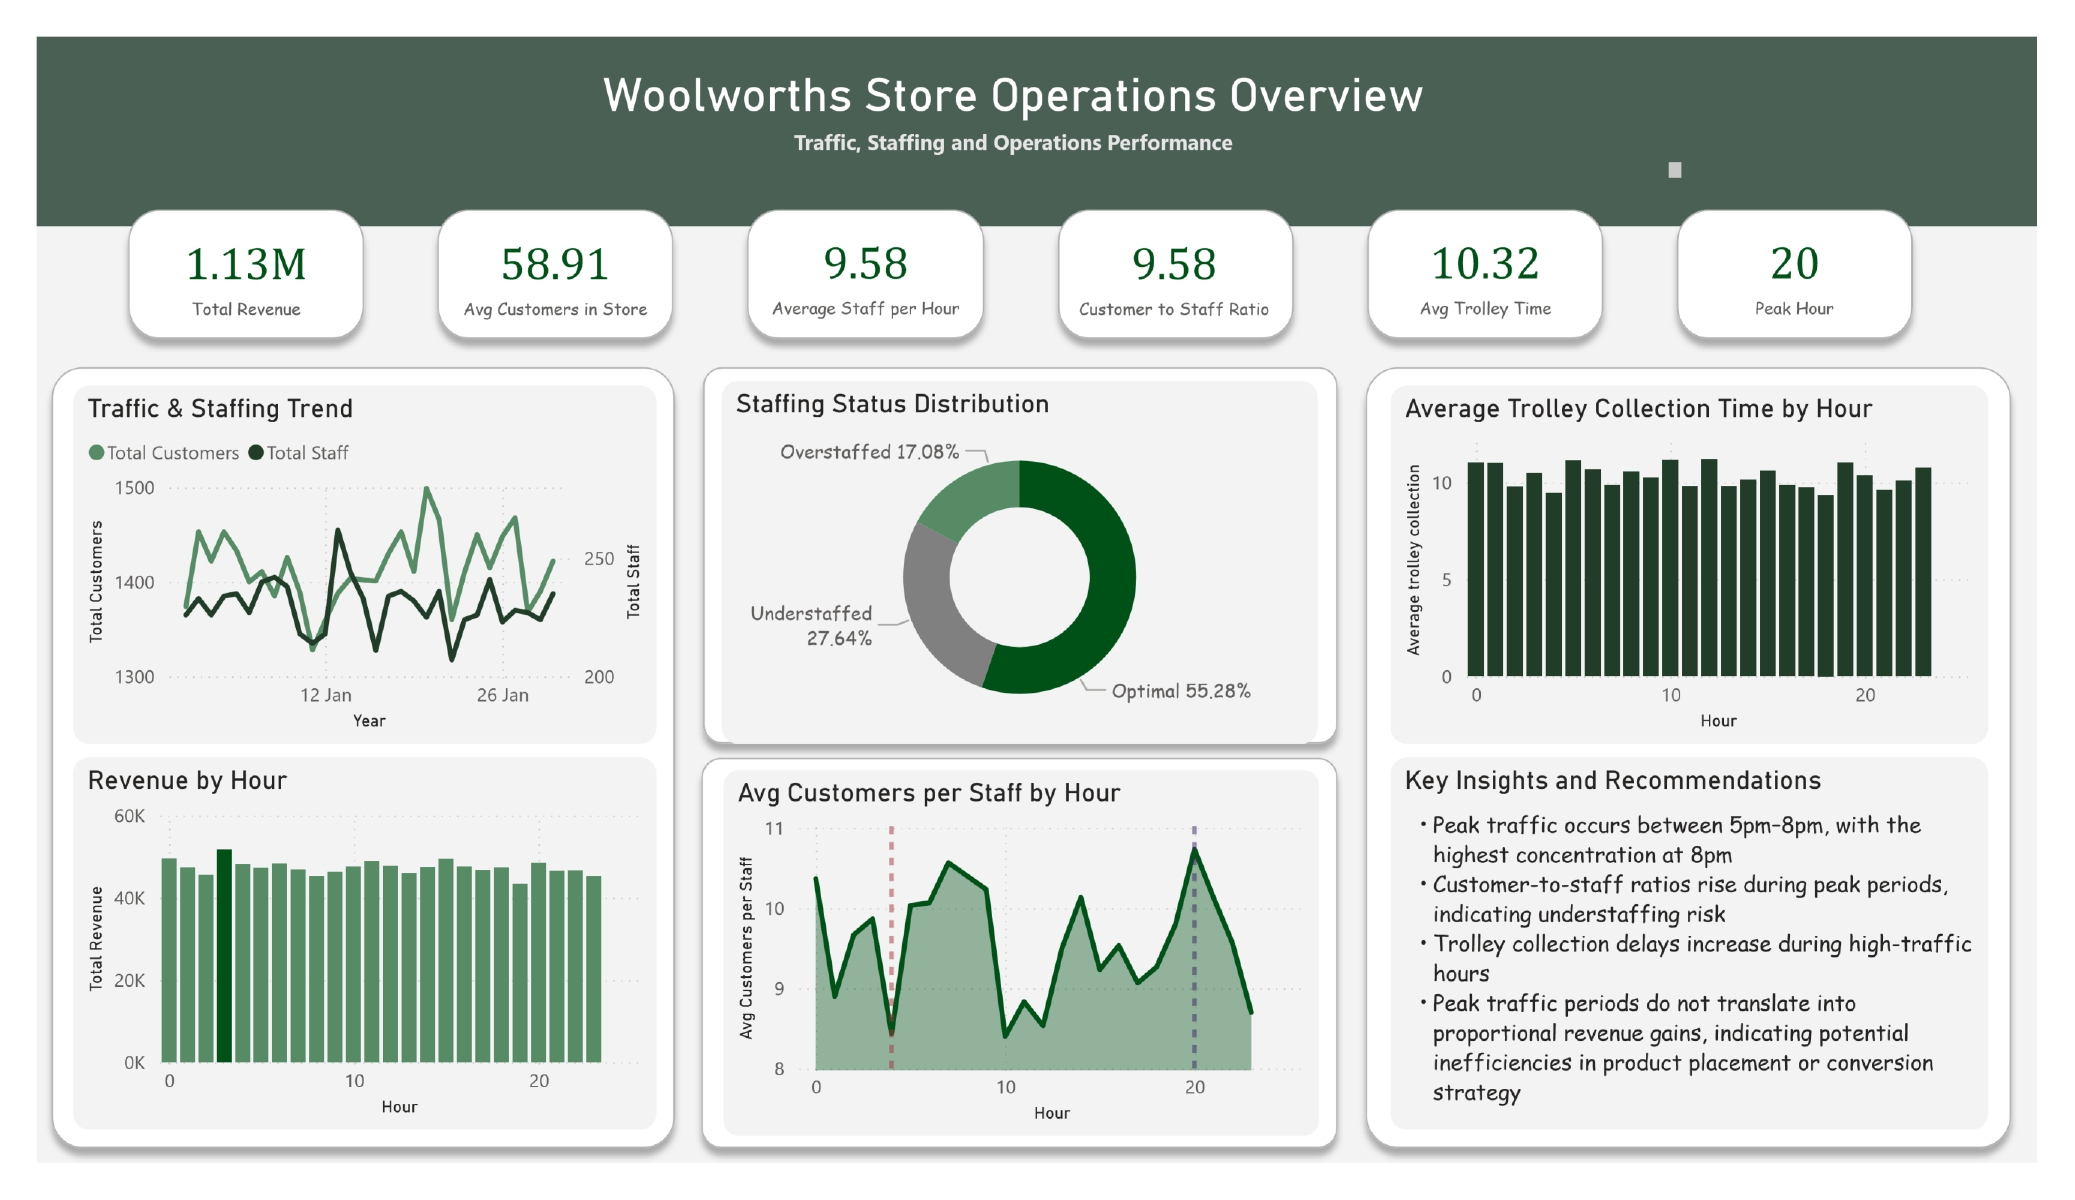

The page's visual inventory and layout, read from the dashboard file:
{"tool":"powerbi","page":{"name":"Woolworths Dashboard","canvas":[1280,720],"ordinal":0},"visuals":[{"type":"shape","box":[0,0,1280.4,120.6],"z":0},{"type":"textbox","title":"Woolworths Store Operations Overview","box":[191.5,18.6,865.4,76.3],"z":1000},{"type":"shape","box":[48.8,101.1,169.4,101.1],"z":2000},{"type":"shape","box":[247,101.1,169.4,101.1],"z":3000},{"type":"shape","box":[445.3,101.1,169.4,101.1],"z":4000},{"type":"shape","box":[643.6,101.1,169.4,101.1],"z":5000},{"type":"shape","box":[841.8,101.1,169.4,101.1],"z":6000},{"type":"shape","box":[1040.1,101.1,169.4,101.1],"z":7000},{"type":"card","fields":{"Values":["Sum(transactions.total_amount)"]},"box":[75.4,115.3,116.2,72.7],"z":8000},{"type":"card","fields":{"Values":["Avg(foot_traffic.customers_in_store)"]},"box":[259.8,110.8,142.8,80.7],"z":9000},{"type":"card","fields":{"Values":["Avg(staffing.staff_count)"]},"box":[462.9,117,133.9,68.3],"z":10000},{"type":"card","fields":{"Values":["Avg(foot_traffic.Customers per staff)"]},"box":[656.2,113.5,142.8,76.3],"z":11000},{"type":"shape","box":[0,202.2,416.7,517.8],"z":12000},{"type":"card","fields":{"Values":["Avg(operations.trolley_collection_time)"]},"box":[854.8,109.1,142.8,84.2],"z":13000},{"type":"shape","box":[416.7,202.2,424.7,258.9],"z":14000},{"type":"shape","box":[841.5,202.2,430.9,517.8],"z":15000},{"type":"card","fields":{"Values":["foot_traffic.Peak Hour"]},"box":[1062.3,117,125,68.3],"z":16000},{"type":"lineChart","title":"Traffic & Staffing Trend","fields":{"Category":["foot_traffic.datetime.Variation.Date Hierarchy.Year","foot_traffic.datetime.Variation.Date Hierarchy.Quarter","foot_traffic.datetime.Variation.Date Hierarchy.Month","foot_traffic.datetime.Variation.Date Hierarchy.Day"],"Y":["Sum(foot_traffic.customers_in_store)"],"Y2":["Sum(staffing.staff_count)"]},"box":[23.1,222.6,373.3,229.7],"z":17000},{"type":"clusteredColumnChart","title":"Average Trolley Collection Time by Hour","fields":{"Y":["Avg(operations.trolley_collection_time)"],"Category":["foot_traffic.hour"]},"box":[866.3,222.6,381.3,229.7],"z":18000},{"type":"clusteredColumnChart","title":"Revenue by Hour","fields":{"Y":["Sum(transactions.total_amount)"],"Category":["foot_traffic.hour"]},"box":[23.1,461.1,373.3,237.6],"z":19000},{"type":"donutChart","title":"Staffing Status Distribution","fields":{"Category":["foot_traffic.Staffing Status"],"Y":["CountNonNull(foot_traffic.Staffing Status)"]},"box":[438,219.9,381.3,232.3],"z":20000},{"type":"textbox","title":"Key Insights and Recommendations","box":[866.3,461.1,381.3,237.6],"z":21000},{"type":"shape","box":[415.9,452.2,424.7,267.8],"z":22000},{"type":"areaChart","fields":{"Category":["foot_traffic.hour"],"Y":["Avg(foot_traffic.Customers per staff)"]},"box":[438.9,469.1,381.3,234.1],"z":23000}]}

Visuals, with their boxes on the page's 1280x720 design canvas (x1, y1, x2, y2). These are canvas units, not pixel positions in the 2075x1200 screenshot, which may show the page scaled, cropped or inside an application window:
shape: Rect(0, 0, 1280, 121)
"Woolworths Store Operations Overview" textbox: Rect(192, 19, 1057, 95)
shape: Rect(49, 101, 218, 202)
shape: Rect(247, 101, 416, 202)
shape: Rect(445, 101, 615, 202)
shape: Rect(644, 101, 813, 202)
shape: Rect(842, 101, 1011, 202)
shape: Rect(1040, 101, 1210, 202)
card - Sum(transactions.total_amount): Rect(75, 115, 192, 188)
card - Avg(foot_traffic.customers_in_store): Rect(260, 111, 403, 192)
card - Avg(staffing.staff_count): Rect(463, 117, 597, 185)
card - Avg(foot_traffic.Customers per staff): Rect(656, 114, 799, 190)
shape: Rect(0, 202, 417, 720)
card - Avg(operations.trolley_collection_time): Rect(855, 109, 998, 193)
shape: Rect(417, 202, 841, 461)
shape: Rect(842, 202, 1272, 720)
card - foot_traffic.Peak Hour: Rect(1062, 117, 1187, 185)
"Traffic & Staffing Trend" lineChart: Rect(23, 223, 396, 452)
"Average Trolley Collection Time by Hour" clusteredColumnChart: Rect(866, 223, 1248, 452)
"Revenue by Hour" clusteredColumnChart: Rect(23, 461, 396, 699)
"Staffing Status Distribution" donutChart: Rect(438, 220, 819, 452)
"Key Insights and Recommendations" textbox: Rect(866, 461, 1248, 699)
shape: Rect(416, 452, 841, 720)
areaChart - foot_traffic.hour x Avg(foot_traffic.Customers per staff): Rect(439, 469, 820, 703)
